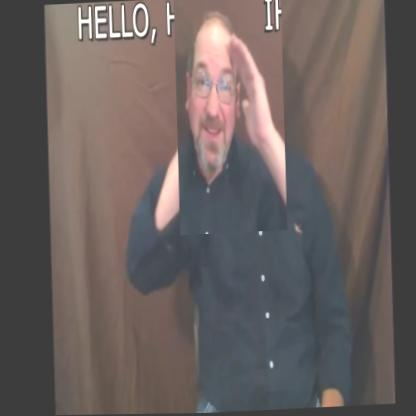Hello: (173, 0, 289, 236)
